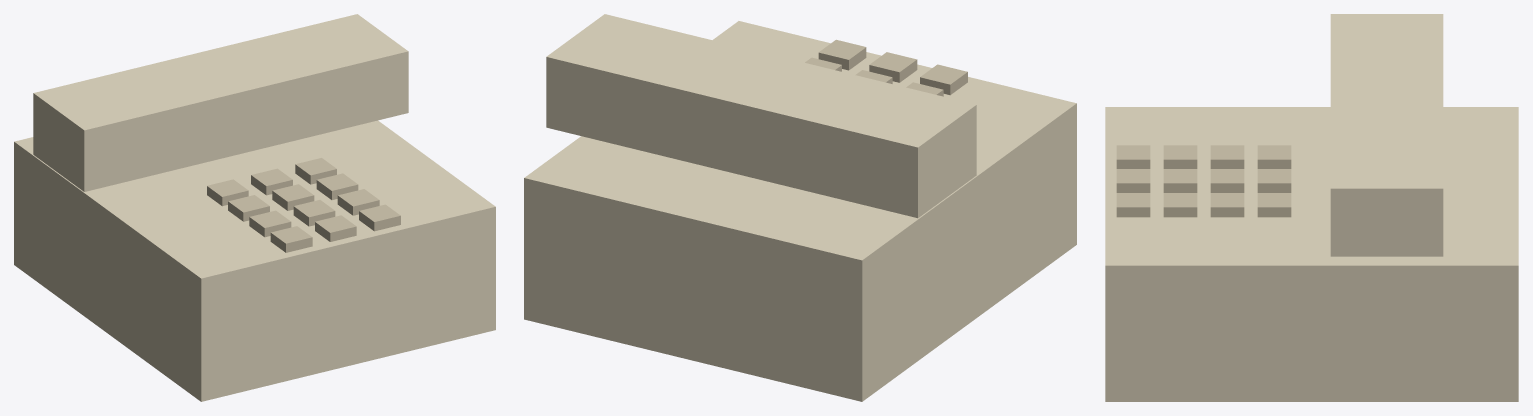
Rendered from phone-pushbutton.glb.
3 renders of one model, left to right at view 1: azimuth 30°, elevation 25°; view 2: azimuth 150°, elevation 25°; view 3: azimuth 270°, elevation 25°, orthographic. The views are drawn at different scales.
Parts seen in each view (by area): view 1: kit-phone-pushbutton; view 2: kit-phone-pushbutton; view 3: kit-phone-pushbutton.
Part boxes in pixels (bbox=[...]): kit-phone-pushbutton: bbox=[14, 14, 495, 401]; kit-phone-pushbutton: bbox=[524, 14, 1076, 401]; kit-phone-pushbutton: bbox=[1105, 14, 1518, 401].
Bounding box in the file's own units: 0.22 × 0.13 × 0.22.
